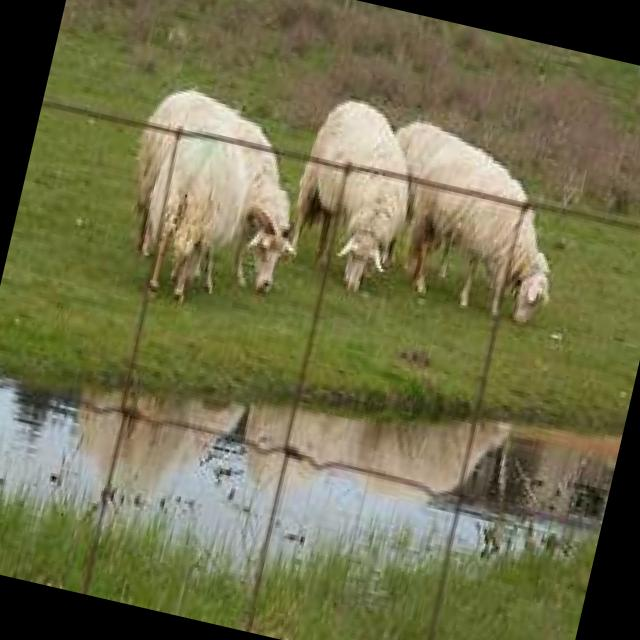sheep: (102, 34, 331, 351), (378, 113, 616, 354), (272, 61, 470, 332)
